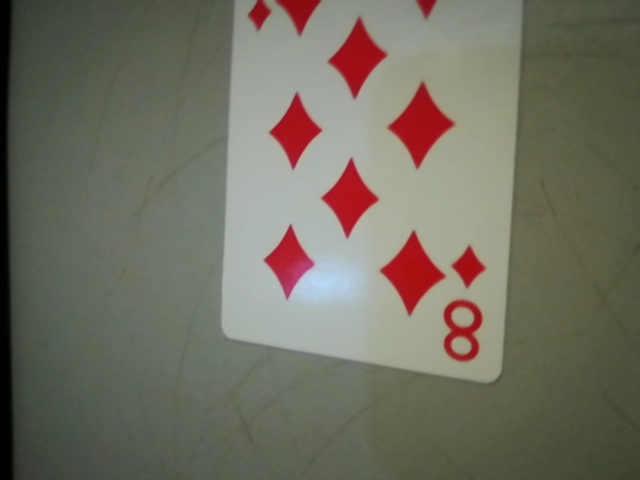fk 8: (432, 236, 499, 374)
